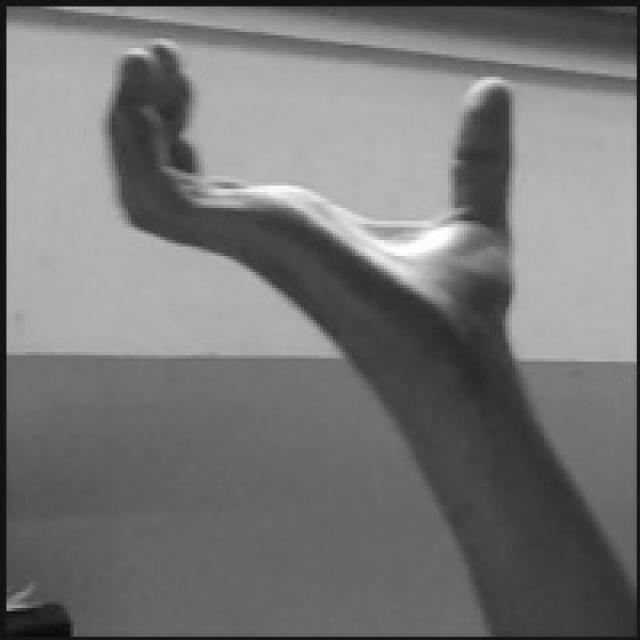space: (101, 34, 515, 346)
